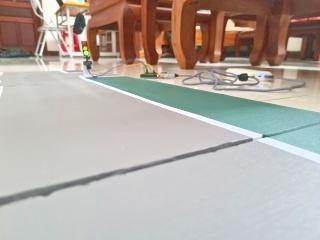green: (76, 40, 93, 60)
